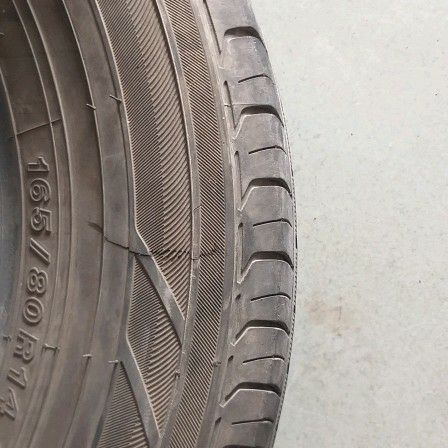cut: (85, 221, 219, 260)
